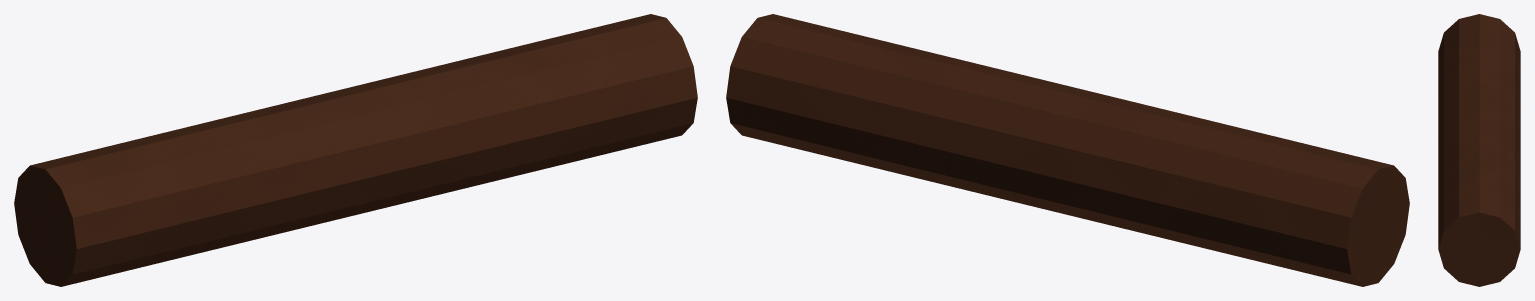
Rendered from Decor_PipeStraight.fbx.
3 views of the same model, side by side, from view 1: azimuth 30°, elevation 25°; view 2: azimuth 150°, elevation 25°; view 3: azimuth 270°, elevation 25° (orthographic). The views are drawn at different scales.
Visible parts, largest first — view 1: ENV_Foundry_Decor_PipeStraight_LOD0; view 2: ENV_Foundry_Decor_PipeStraight_LOD0; view 3: ENV_Foundry_Decor_PipeStraight_LOD0.
Boxes of the visible parts, bbox=[...] form: ENV_Foundry_Decor_PipeStraight_LOD0: bbox=[14, 14, 697, 286]; ENV_Foundry_Decor_PipeStraight_LOD0: bbox=[726, 14, 1409, 286]; ENV_Foundry_Decor_PipeStraight_LOD0: bbox=[1438, 14, 1520, 286].
Size of what is drawn, in the model's own units: 4 by 0.7 by 0.7.
